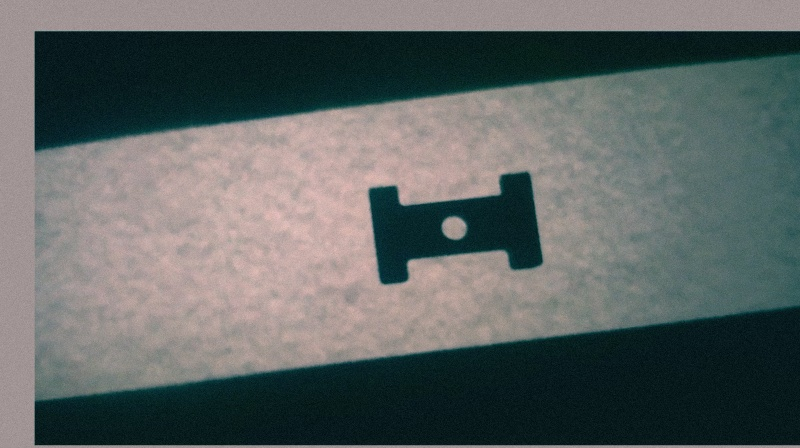O002: (363, 169, 545, 286)
